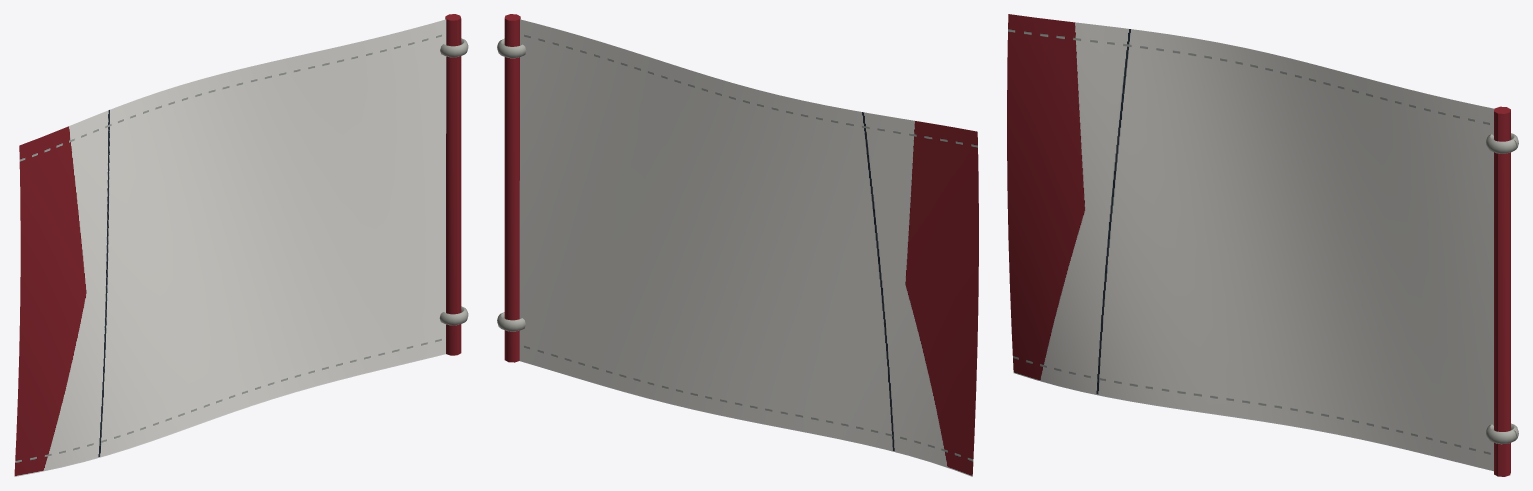
Rendered from Pennant_07_N_生成・紅緒.glb.
3 renders of one model, left to right at view 1: azimuth 30°, elevation 25°; view 2: azimuth 150°, elevation 25°; view 3: azimuth 330°, elevation 25°, orthographic. The views are drawn at different scales.
Parts seen in each view (by area): view 1: Pennant_07_N; view 2: Pennant_07_N; view 3: Pennant_07_N.
Part boxes in pixels (<box>): Pennant_07_N: <box>14,14,468,476</box>; Pennant_07_N: <box>497,14,978,476</box>; Pennant_07_N: <box>1007,14,1518,476</box>.
Size of the model in its own units: 0.2576 by 0.1862 by 0.0195.
Materials: 3 (3 with a texture image).
